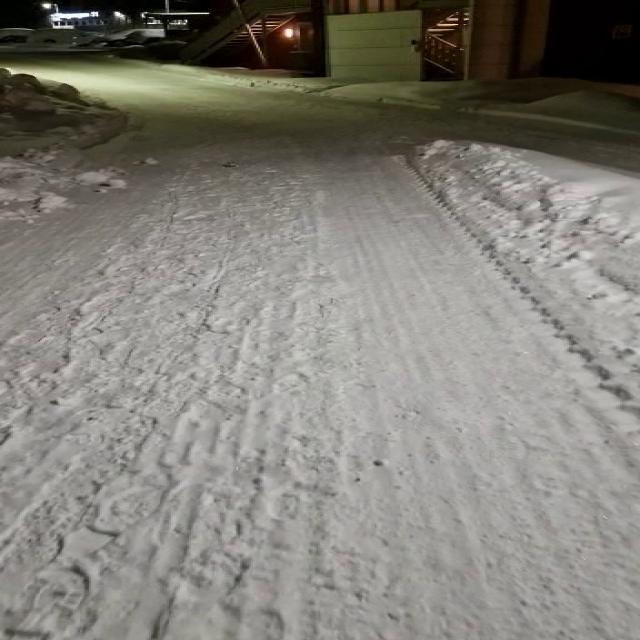path: (2, 54, 638, 640)
